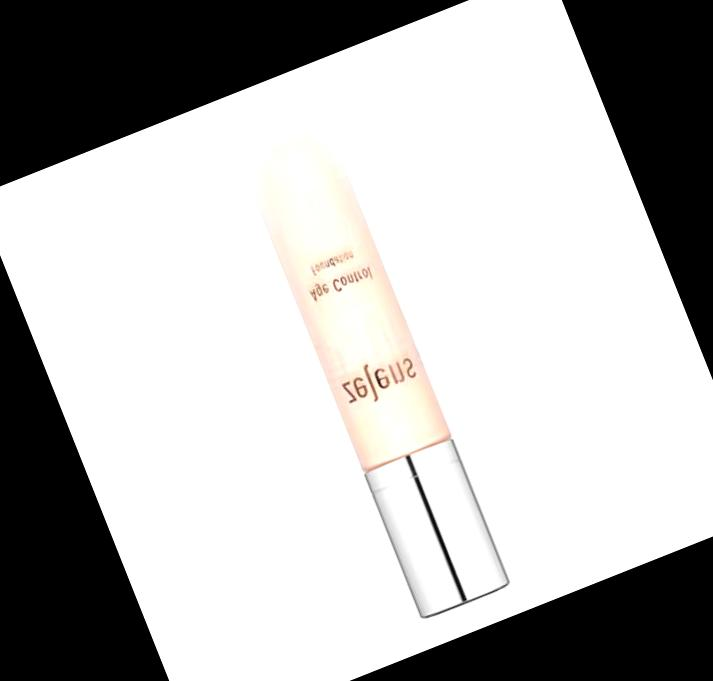cosmetic: (221, 82, 515, 623)
